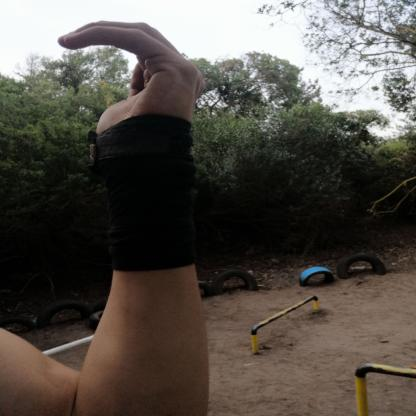HAA: (40, 11, 220, 154)
